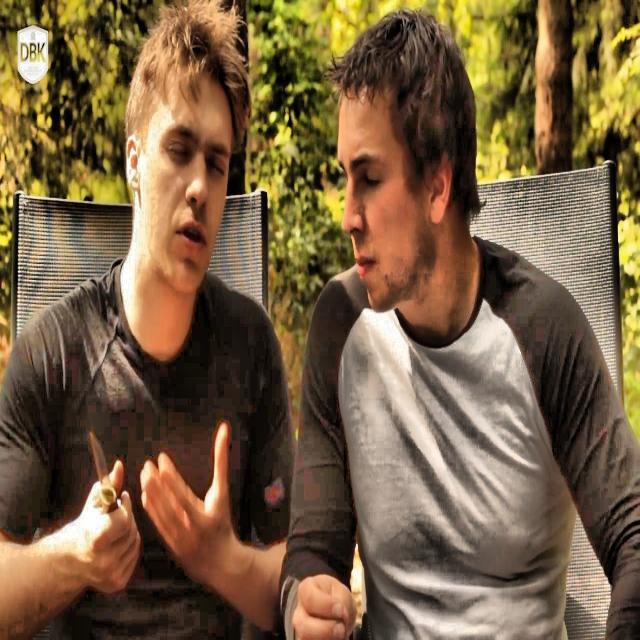knife: (90, 433, 118, 515)
